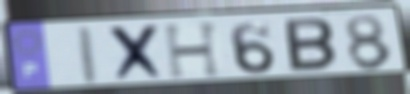6: (227, 20, 278, 75)
8: (343, 12, 395, 71)
B: (282, 16, 339, 74)
H: (161, 20, 225, 81)
I: (78, 24, 102, 88)
X: (106, 22, 169, 84)
